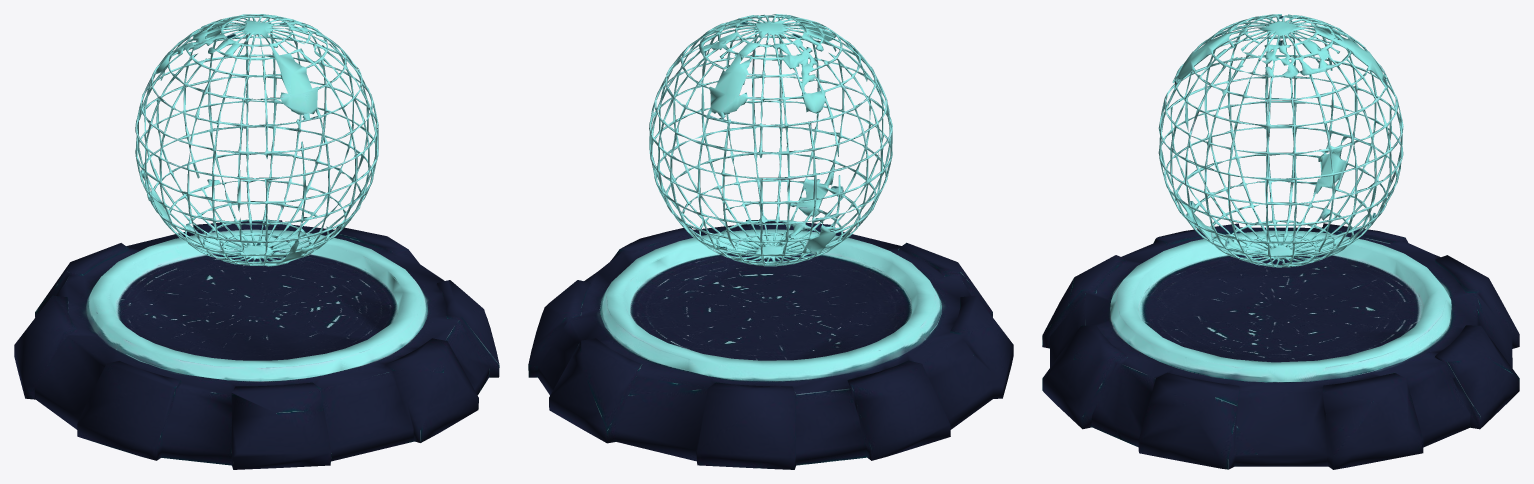
Rendered from holo.glb.
3 views of the same model, side by side, from view 1: azimuth 30°, elevation 25°; view 2: azimuth 150°, elevation 25°; view 3: azimuth 270°, elevation 25° (orthographic).
Visible parts, largest first — view 1: Mesh_0; view 2: Mesh_0; view 3: Mesh_0.
Part boxes in pixels (x1=…): Mesh_0: x1=14, y1=14, x2=499, y2=469; Mesh_0: x1=528, y1=14, x2=1013, y2=469; Mesh_0: x1=1042, y1=14, x2=1519, y2=469.
Bounding box in the file's own units: 1.91 × 1.51 × 1.91.
Materials: 1 (1 with a texture image).
